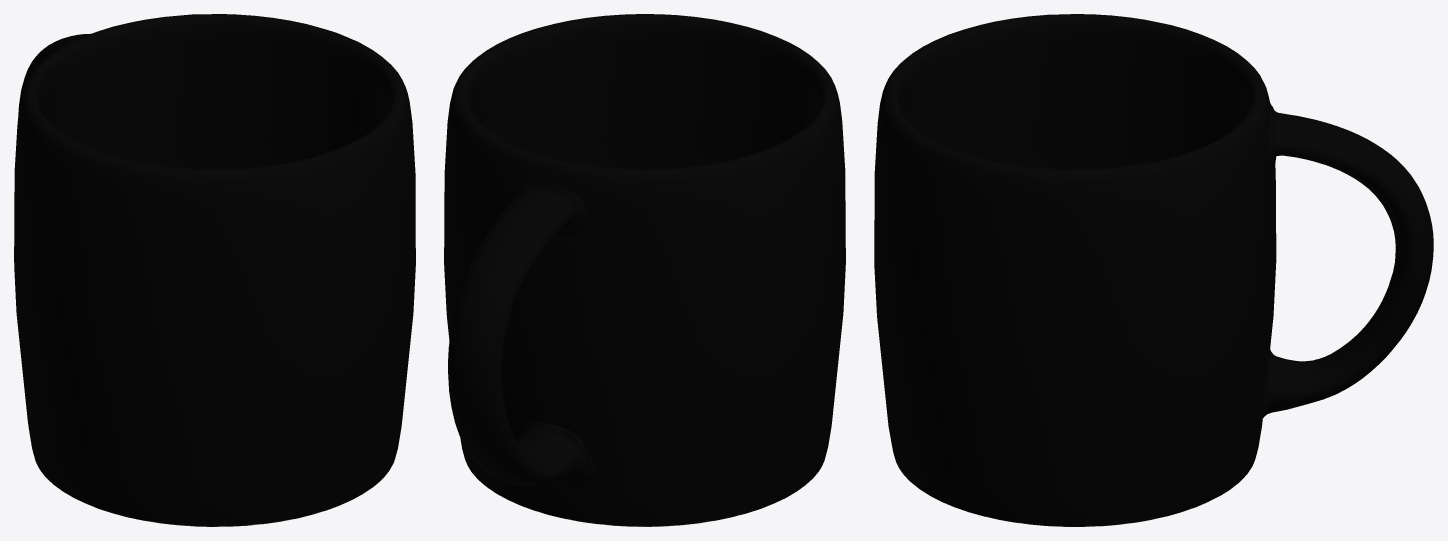
The model's file is ceramic cup.fbx.
3 renders of one model, left to right at view 1: azimuth 30°, elevation 25°; view 2: azimuth 150°, elevation 25°; view 3: azimuth 270°, elevation 25°, orthographic.
Parts seen in each view (by area): view 1: mug_outside_0; view 2: mug_outside_0; view 3: mug_outside_0.
Boxes of the visible parts, left/top/right/bottom form: mug_outside_0: left=14, top=14, right=415, bottom=526; mug_outside_0: left=444, top=14, right=845, bottom=526; mug_outside_0: left=874, top=14, right=1433, bottom=526.
Bounding box in the file's own units: 955 × 951 × 1330.
1 material, 1 textured.
